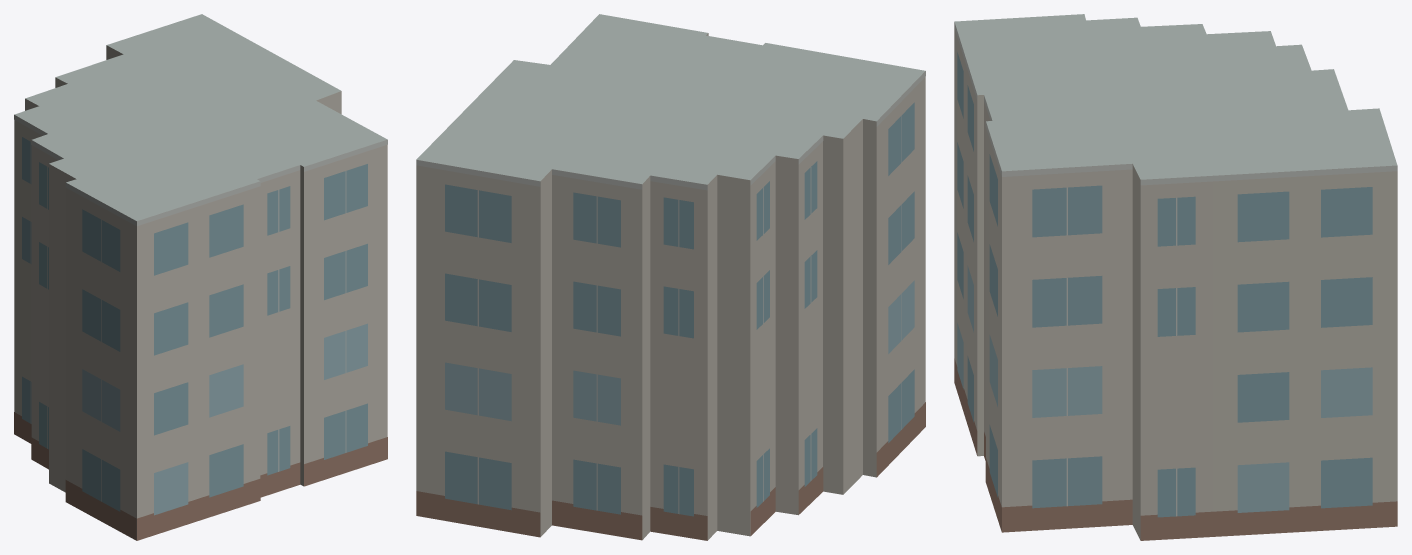
The model's file is survey-upis-32576573.glb.
3 views of the same model, side by side, from view 1: azimuth 30°, elevation 25°; view 2: azimuth 150°, elevation 25°; view 3: azimuth 270°, elevation 25° (orthographic). The views are drawn at different scales.
Parts seen in each view (by area): view 1: survey-upis-32576573.tmp; view 2: survey-upis-32576573.tmp; view 3: survey-upis-32576573.tmp.
Boxes of the visible parts, x1,y1,x2,y2 form: survey-upis-32576573.tmp: [14, 14, 387, 540]; survey-upis-32576573.tmp: [416, 14, 925, 540]; survey-upis-32576573.tmp: [954, 14, 1397, 540].
Size of the model in its own units: 15.21 by 15.44 by 17.18.
